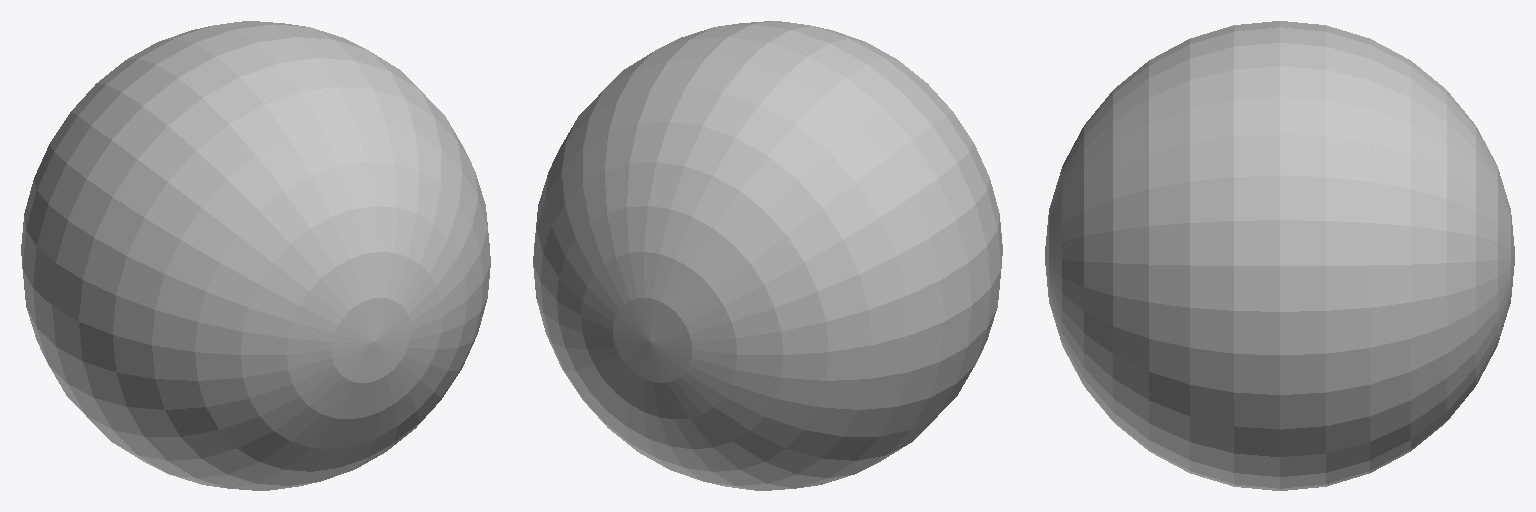
The model's file is SphereTopUV.obj.
3 views of the same model, side by side, from view 1: azimuth 30°, elevation 25°; view 2: azimuth 150°, elevation 25°; view 3: azimuth 270°, elevation 25° (orthographic).
Bounding box in the file's own units: 2 × 2 × 2.